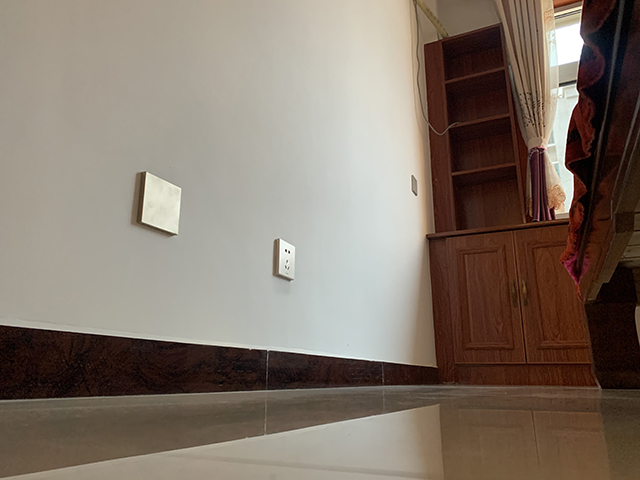bed: (558, 1, 640, 389)
cabinet: (428, 232, 592, 384)
curtain: (495, 1, 567, 224)
